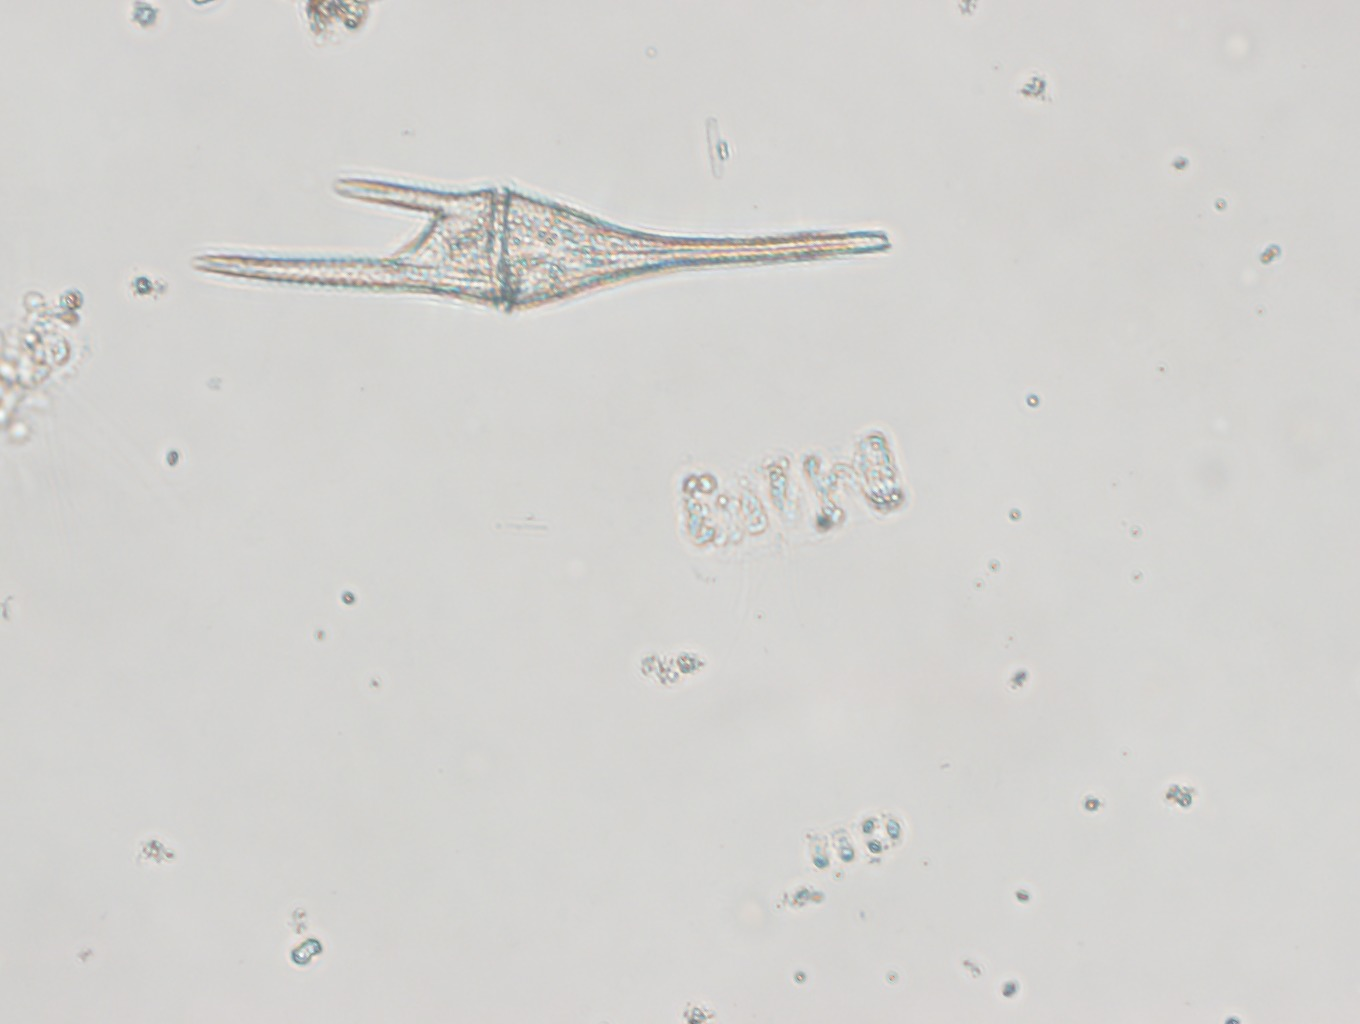ceratium furca: (190, 169, 890, 316)
